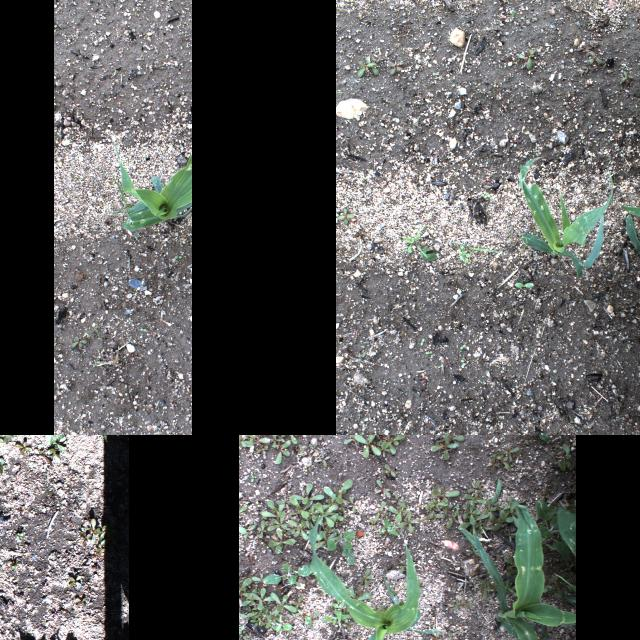crop: (458, 504, 574, 640), (309, 512, 419, 640), (517, 154, 613, 278), (112, 97, 192, 229), (552, 508, 576, 590), (623, 159, 640, 261)
weed: (536, 499, 570, 561), (262, 561, 314, 585), (324, 528, 354, 564), (408, 234, 440, 262), (574, 41, 602, 73), (267, 527, 295, 553), (290, 482, 324, 503), (430, 435, 458, 458), (457, 511, 489, 531), (354, 435, 381, 458), (355, 54, 377, 82), (244, 588, 272, 610), (454, 239, 498, 251), (512, 48, 536, 70), (270, 591, 294, 613), (314, 502, 334, 528), (385, 52, 407, 74), (322, 484, 340, 510), (380, 435, 404, 454), (559, 443, 575, 471), (260, 499, 282, 519), (288, 496, 308, 518), (491, 510, 513, 530), (334, 480, 352, 504), (346, 585, 370, 603), (399, 511, 418, 533), (432, 486, 458, 502), (466, 496, 480, 524), (86, 518, 102, 542), (492, 449, 511, 469), (238, 575, 252, 601), (288, 520, 306, 540), (378, 518, 398, 536), (388, 501, 406, 521), (353, 344, 372, 362), (416, 326, 429, 352), (312, 531, 333, 547), (68, 332, 88, 348), (338, 205, 356, 222), (507, 279, 537, 289), (320, 614, 350, 624), (14, 440, 32, 456), (48, 446, 66, 462), (244, 603, 262, 619), (267, 512, 285, 528), (621, 64, 635, 84), (485, 452, 499, 472), (330, 600, 344, 620), (275, 442, 289, 462), (502, 499, 518, 516), (478, 576, 489, 600), (246, 435, 270, 446), (454, 336, 470, 352), (304, 610, 318, 628), (304, 506, 322, 520), (320, 492, 334, 510), (359, 568, 371, 588), (518, 435, 551, 442), (51, 435, 66, 450), (455, 356, 471, 370), (422, 341, 438, 355), (502, 446, 518, 460), (376, 480, 390, 496), (315, 451, 329, 467), (376, 499, 386, 521), (426, 498, 448, 508), (464, 493, 486, 503), (484, 498, 494, 520), (95, 542, 107, 558), (380, 464, 396, 476), (342, 435, 366, 443), (272, 620, 290, 630), (256, 520, 266, 538), (100, 523, 108, 545), (68, 575, 82, 587), (80, 533, 92, 547), (468, 542, 480, 556), (242, 524, 254, 538), (265, 435, 279, 447), (447, 510, 457, 526), (506, 556, 516, 572), (467, 480, 479, 492), (265, 614, 277, 626), (0, 455, 7, 475), (8, 560, 22, 570), (390, 492, 400, 506), (75, 597, 88, 607), (248, 617, 264, 625), (468, 578, 478, 590), (292, 596, 302, 608), (281, 435, 296, 443), (250, 574, 264, 582), (296, 442, 304, 456), (458, 252, 469, 262), (348, 495, 354, 513), (79, 526, 89, 536), (478, 522, 488, 532), (508, 6, 516, 18), (308, 443, 318, 452), (422, 514, 443, 518), (368, 518, 376, 528), (238, 505, 246, 515), (0, 435, 11, 442), (238, 634, 250, 640), (238, 435, 244, 446), (34, 448, 42, 456), (238, 525, 246, 533), (15, 533, 25, 539), (0, 564, 3, 576), (238, 626, 244, 632), (249, 474, 255, 480), (456, 462, 460, 468), (318, 435, 324, 439)
